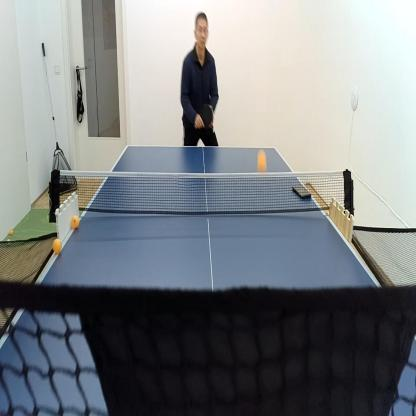Ball: (258, 152, 266, 173), (53, 238, 62, 252), (71, 216, 79, 229), (9, 229, 13, 234), (6, 239, 11, 243)
